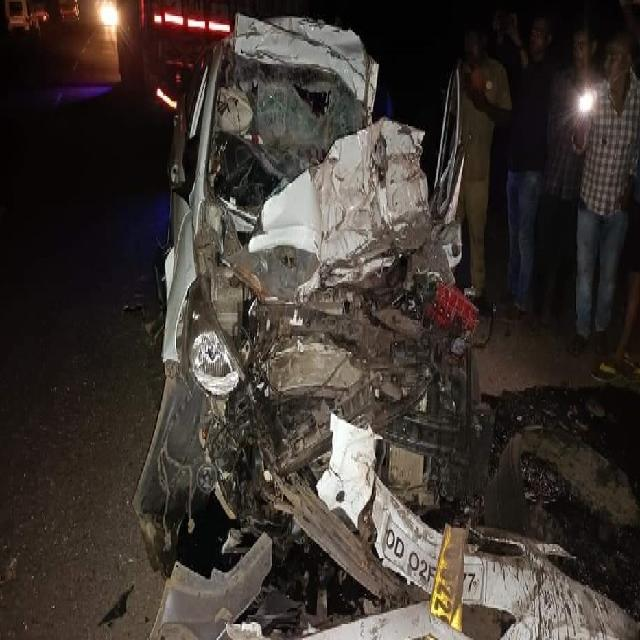accident: (131, 13, 489, 629)
